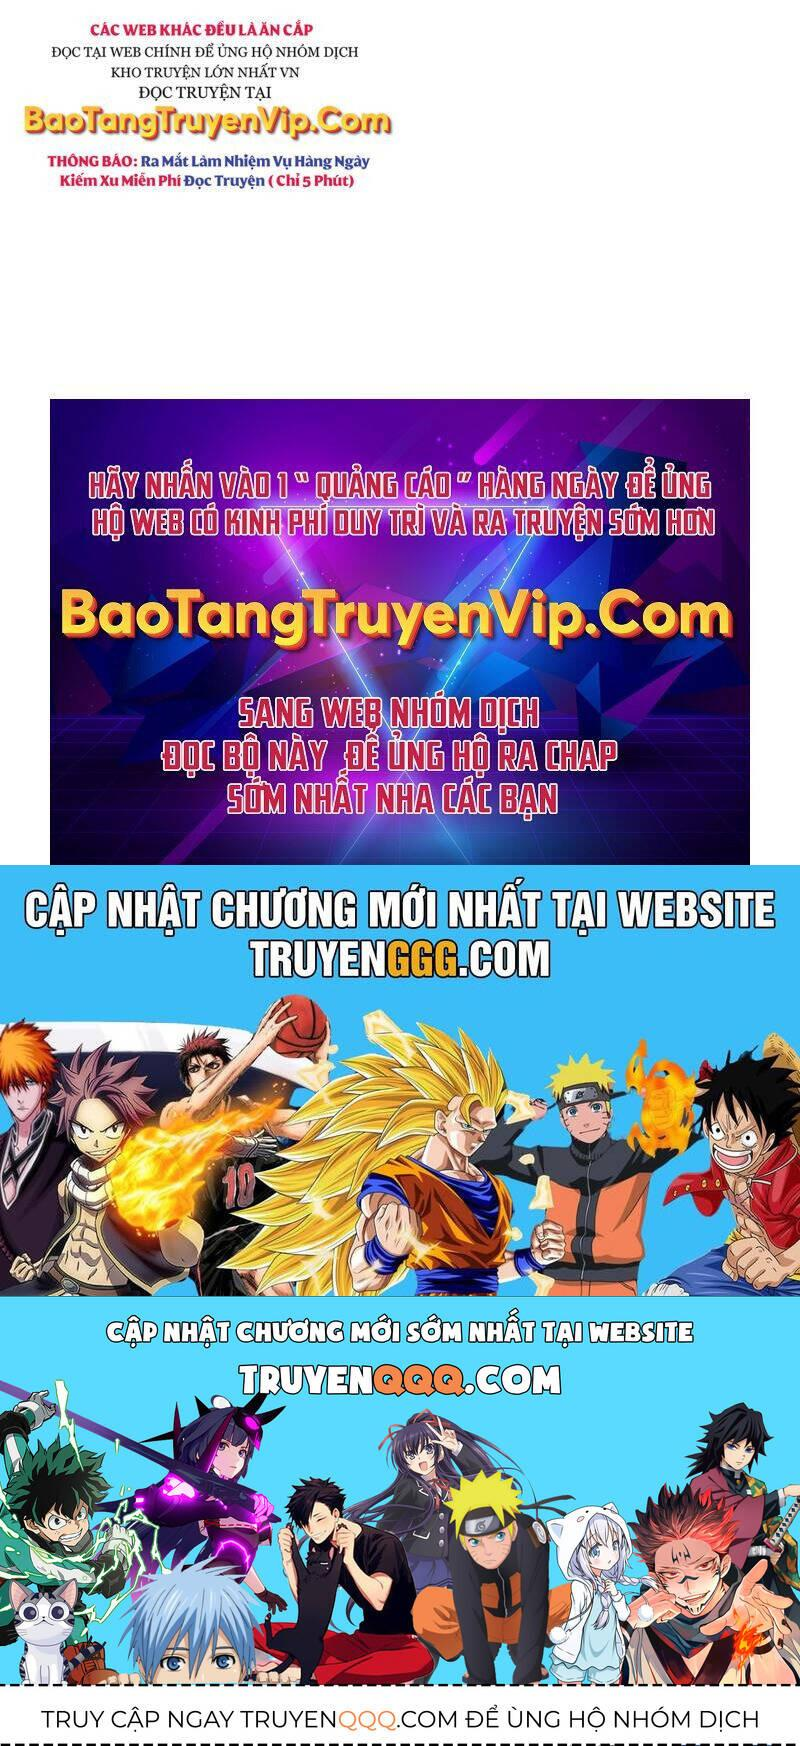quangcao: (0, 385, 800, 1746), (18, 10, 404, 195)
